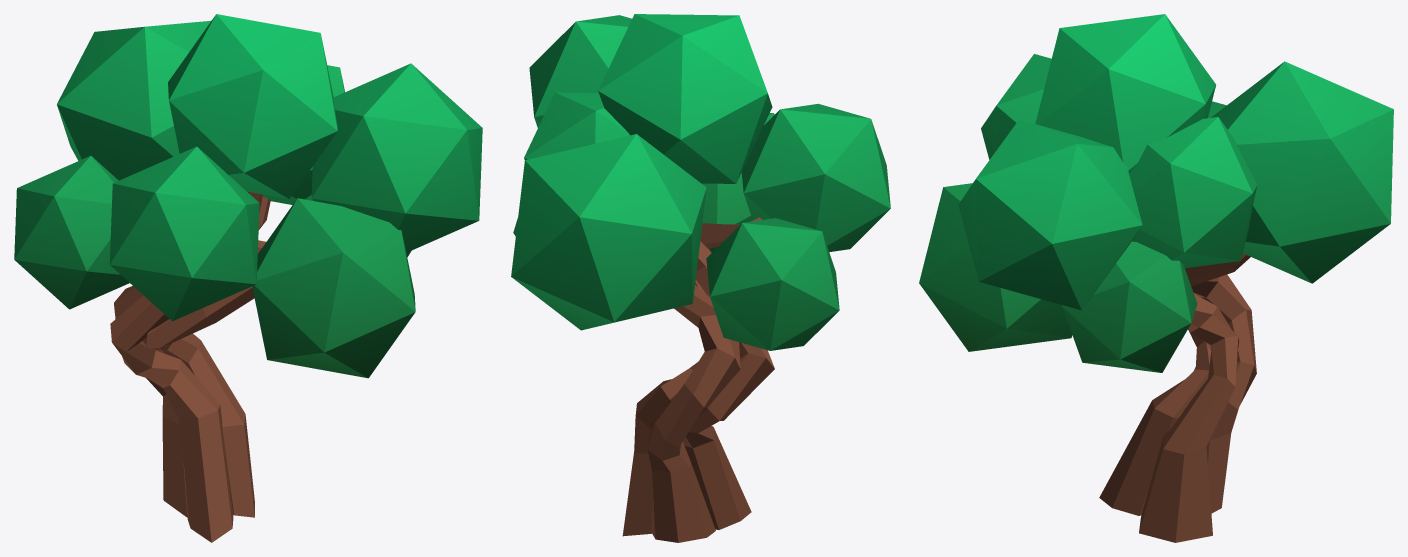
The model's file is Tree_06_gradient_green_vc.fbx.
3 renders of one model, left to right at view 1: azimuth 30°, elevation 25°; view 2: azimuth 150°, elevation 25°; view 3: azimuth 270°, elevation 25°, orthographic. The views are drawn at different scales.
Visible parts, largest first — view 1: Tree_06_gradient_green_vc; view 2: Tree_06_gradient_green_vc; view 3: Tree_06_gradient_green_vc.
Part boxes in pixels (x1=…): Tree_06_gradient_green_vc: x1=14, y1=14, x2=482, y2=542; Tree_06_gradient_green_vc: x1=511, y1=14, x2=890, y2=542; Tree_06_gradient_green_vc: x1=919, y1=14, x2=1393, y2=542.
Bounding box in the file's own units: 488 × 598 × 507.
